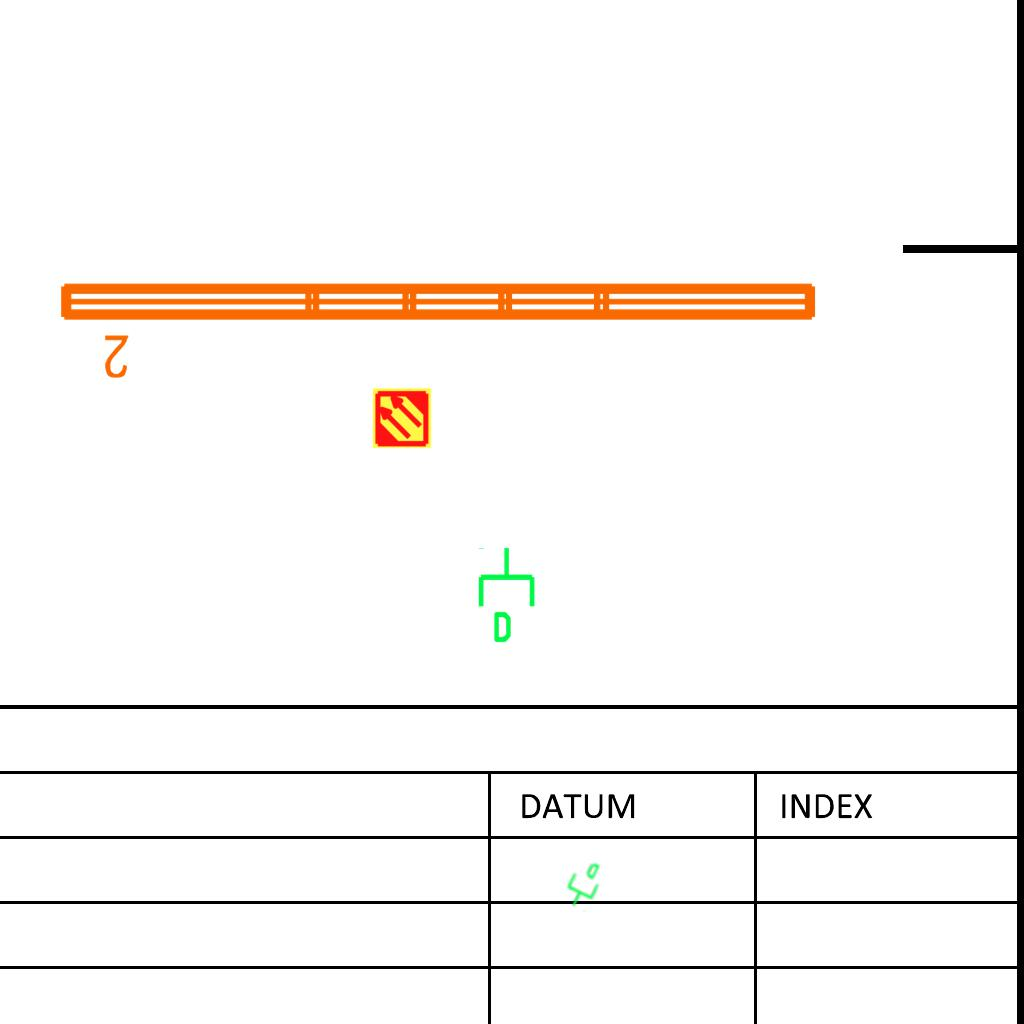ASR_Ansaugrauchmelder: (371, 387, 433, 449)
Ambulanz_Pendelleuchte_LED: (52, 271, 826, 383)
Datenanschluss_einfach: (474, 545, 543, 645), (556, 854, 610, 914)
